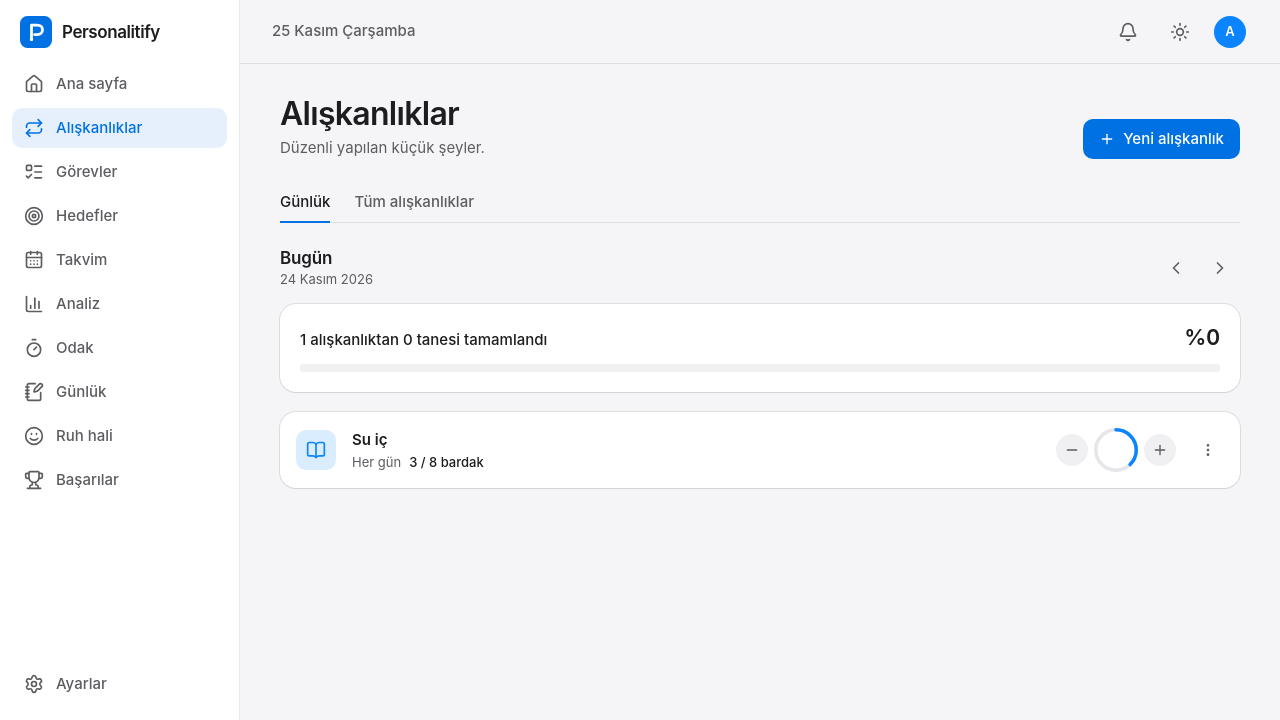
habits day view › sends increments for count habits and rolls back when the server refuses
The image size is (1280, 720).
Click the button named "Su iç değerini artır".
click(1160, 450)  # box [1144,434,1176,466]
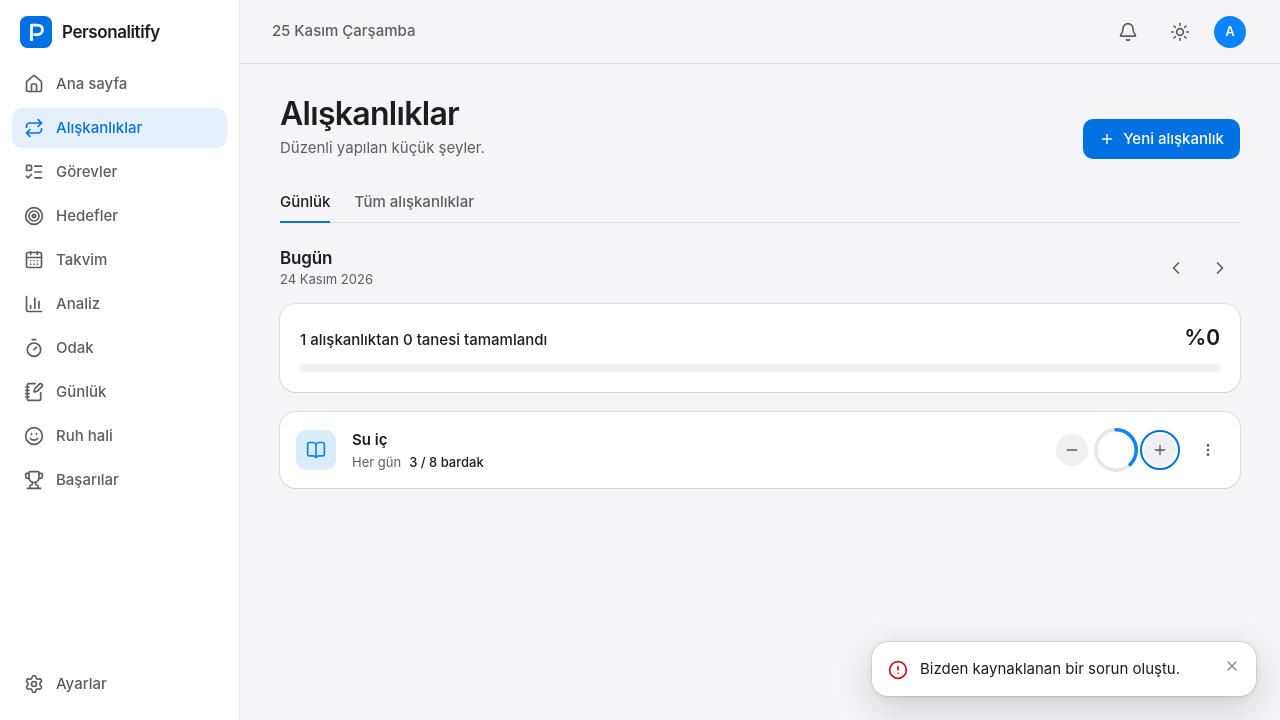
Expected: the text "3 / 8 bardak" is shown, [409,453,484,471]
Expected: the message shows "Bizden kaynaklanan", [920,658,1180,678]
